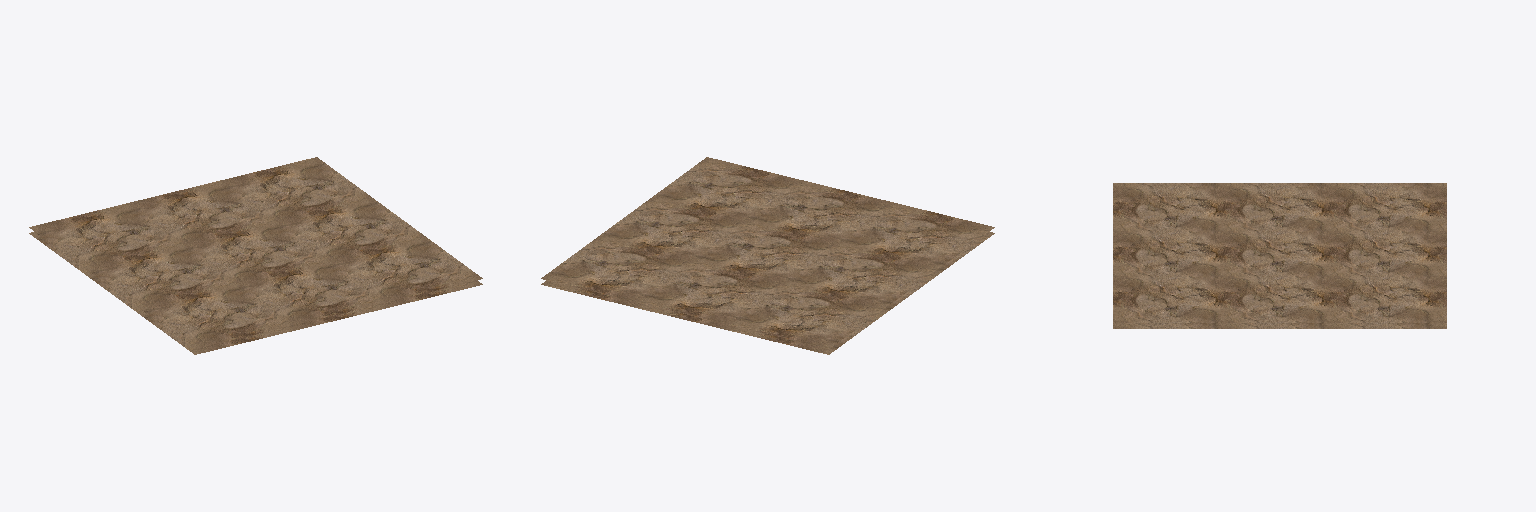
The picture shows the model from 3 angles: view 1: azimuth 30°, elevation 25°; view 2: azimuth 150°, elevation 25°; view 3: azimuth 270°, elevation 25°; orthographic projection.
Visible parts, largest first — view 1: LargePlatform; view 2: LargePlatform; view 3: LargePlatform.
Boxes of the visible parts, <box> form: LargePlatform: <box>29,157,482,354</box>; LargePlatform: <box>541,157,994,354</box>; LargePlatform: <box>1113,183,1446,328</box>.
Bounding box in the file's own units: 22.8 × 0.441 × 22.8.
Materials: 1 (1 with a texture image).